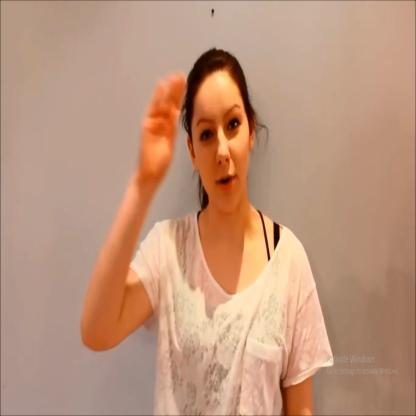Hello: (137, 50, 270, 244)
